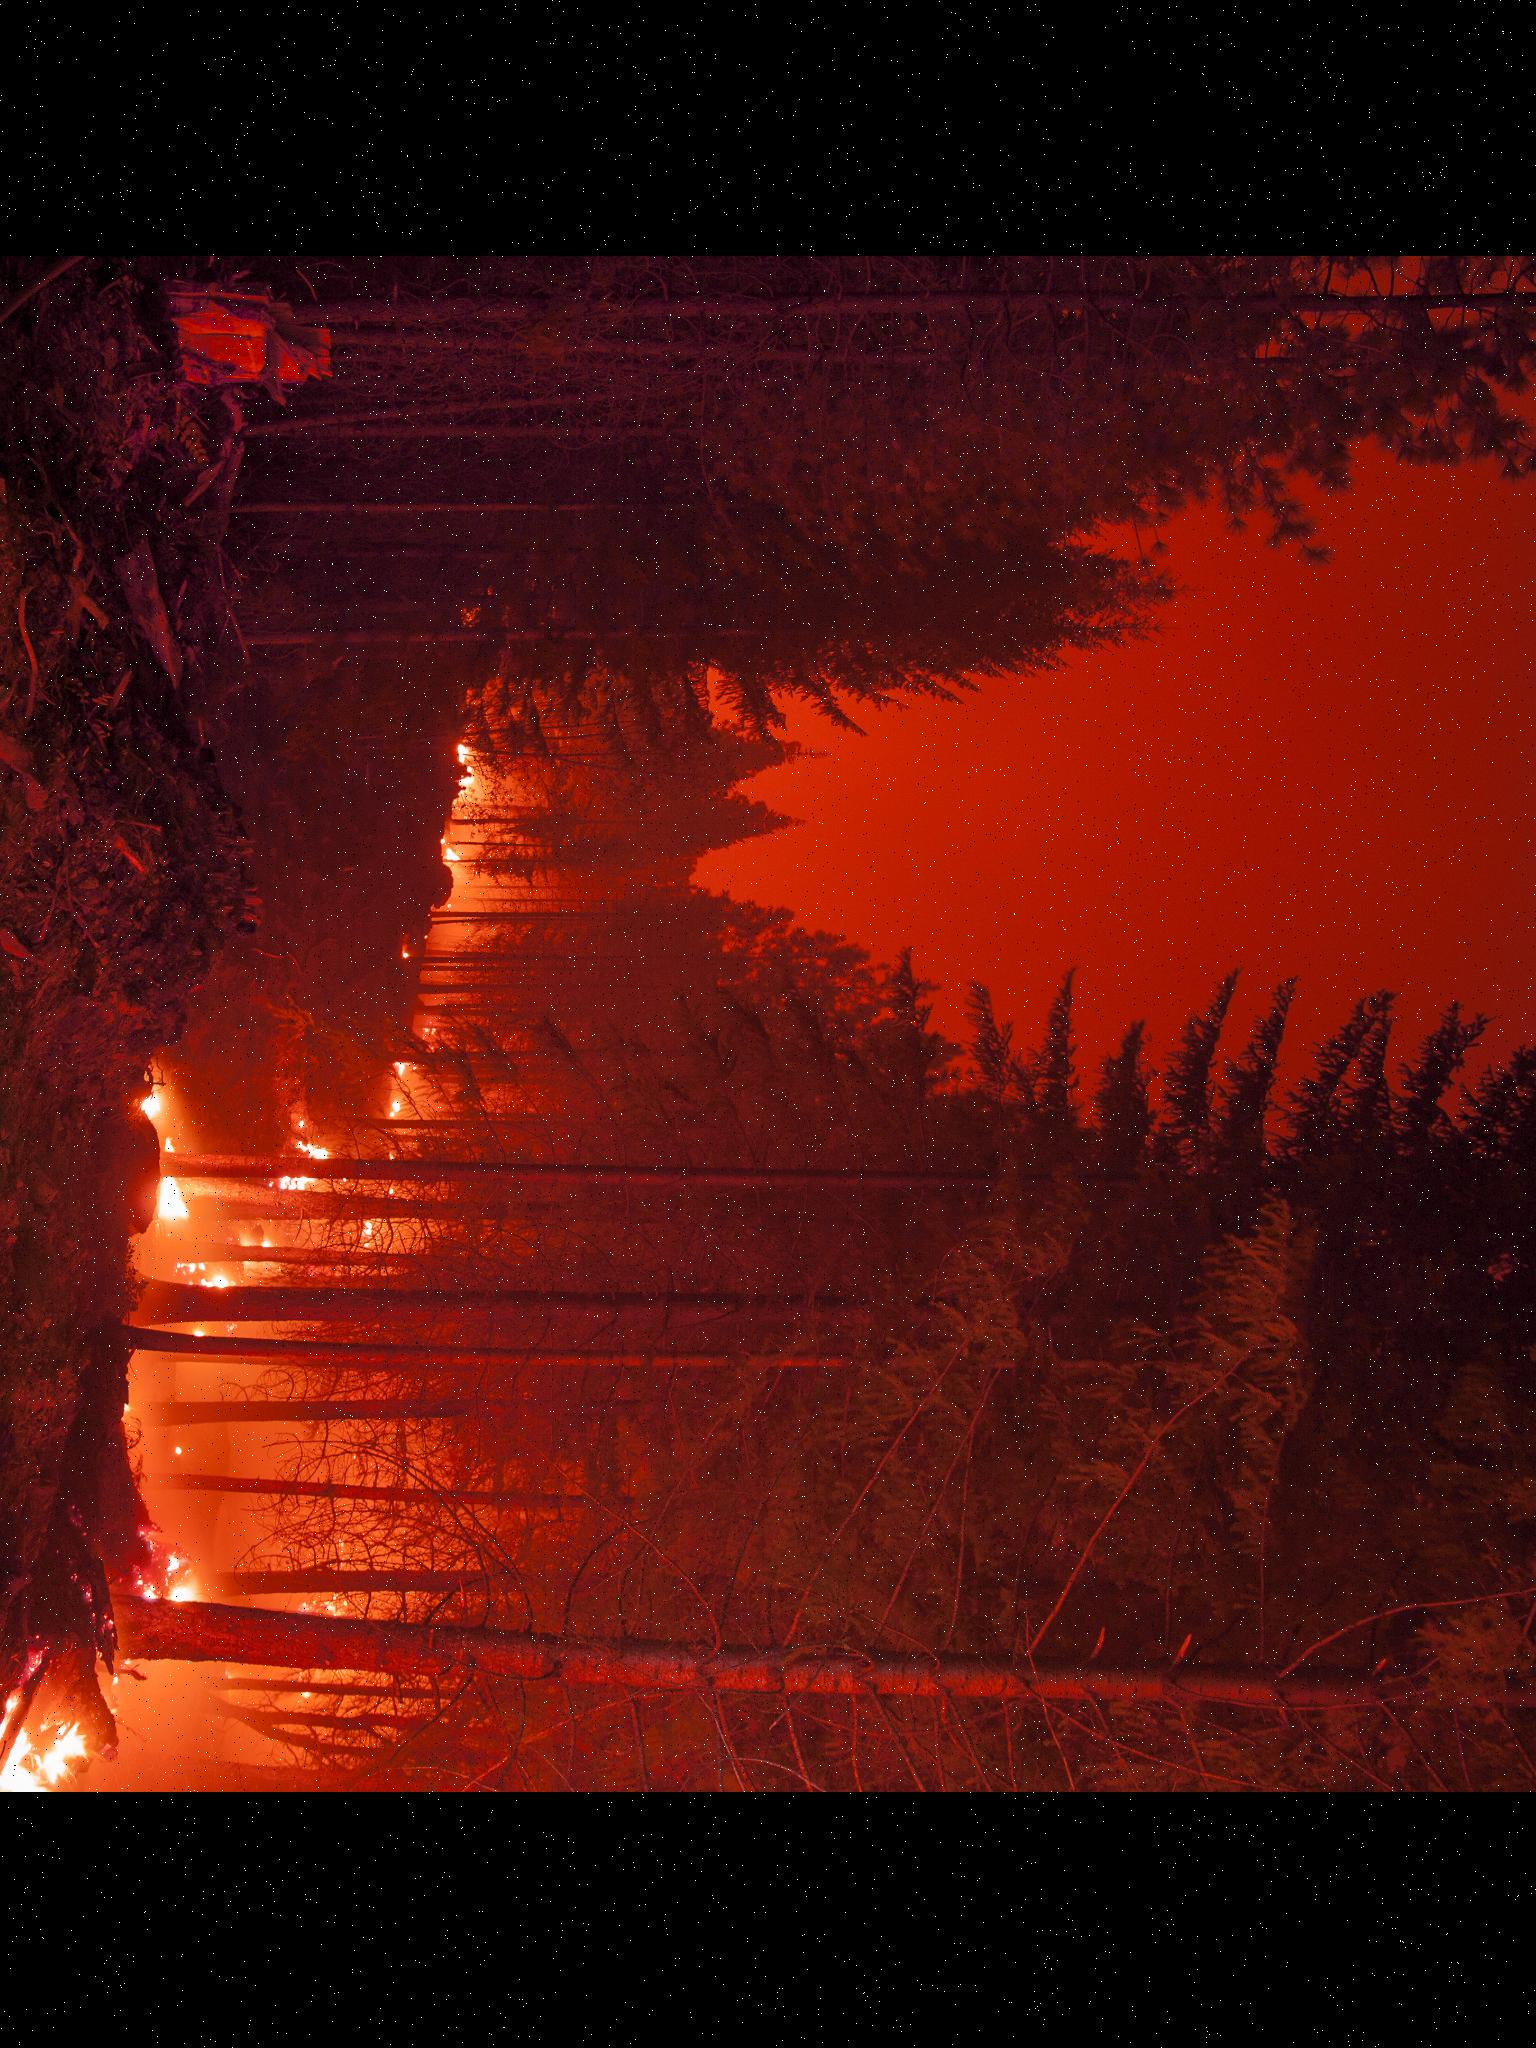fire: (0, 705, 552, 1792)
